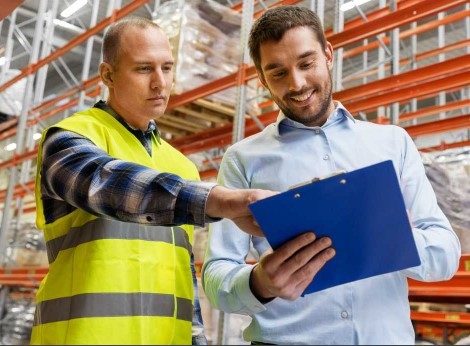worker: (31, 24, 195, 343)
